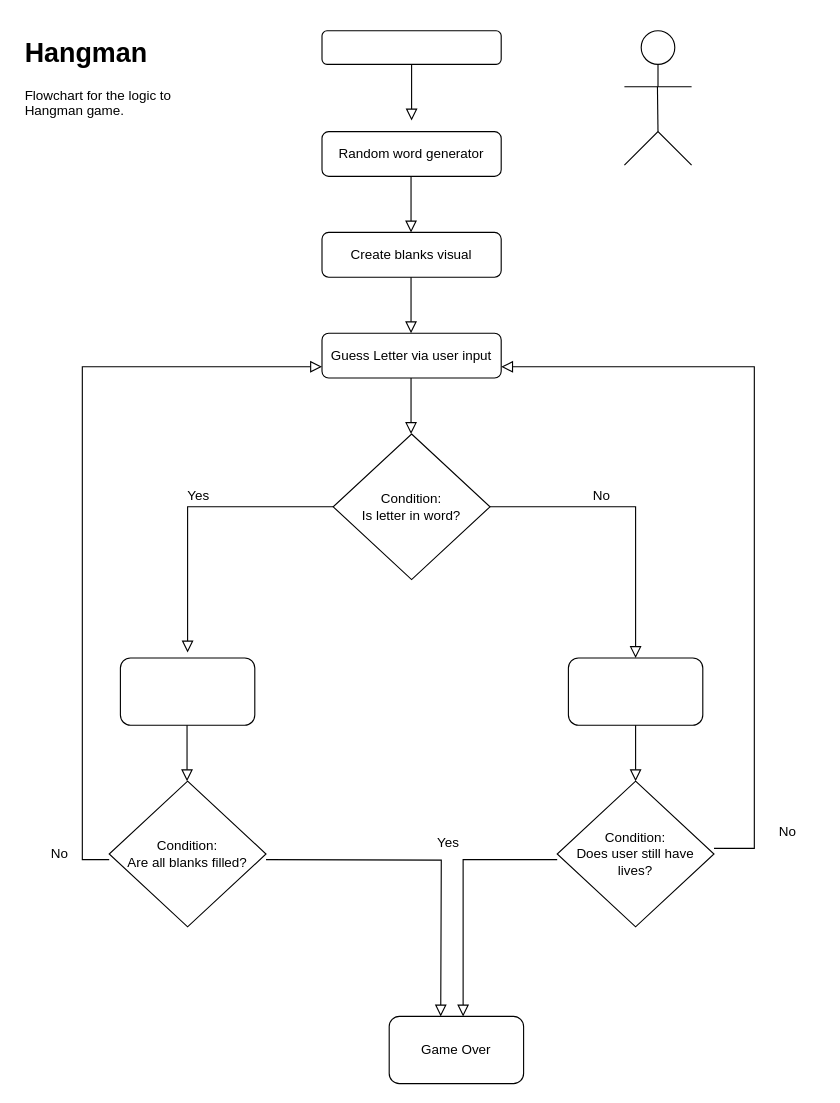
This 840x1103 diagram has some shape labels left out. The centre of each missing label's shape, as x and y in pixels:
"Add guessed letter to blanks (replace blank with letter)" goes at [187,691].
"Lose body part" goes at [635,691].
"Start" goes at [411,47].
